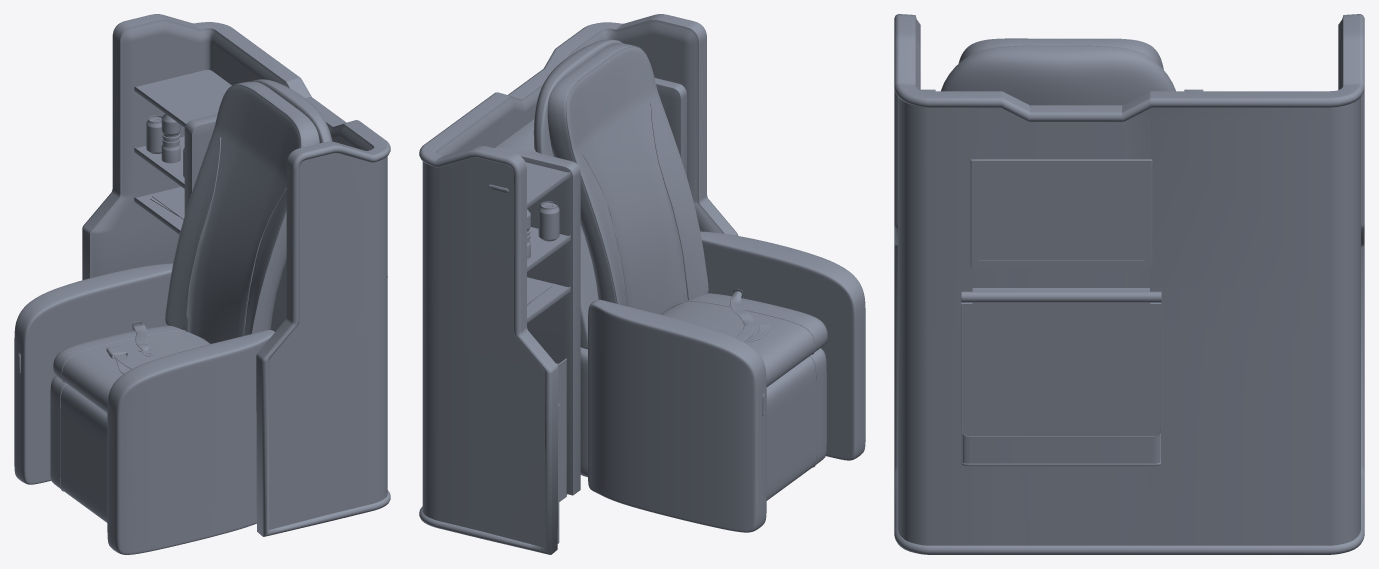
The model's file is seat-business.glb.
3 views of the same model, side by side, from view 1: azimuth 30°, elevation 25°; view 2: azimuth 150°, elevation 25°; view 3: azimuth 270°, elevation 25° (orthographic). The views are drawn at different scales.
Visible parts, largest first — view 1: Business-Class-Seats; view 2: Business-Class-Seats; view 3: Business-Class-Seats.
Part boxes in pixels (box(x1,y1,x2,y2)): Business-Class-Seats: box(14, 14, 390, 554); Business-Class-Seats: box(419, 14, 865, 554); Business-Class-Seats: box(894, 14, 1364, 554).
Size of the model in its own units: 1.07 by 1.34 by 1.19.
